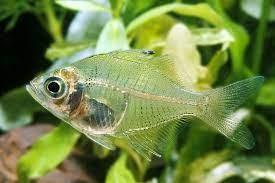Glass Perchlet: (26, 46, 266, 162)
